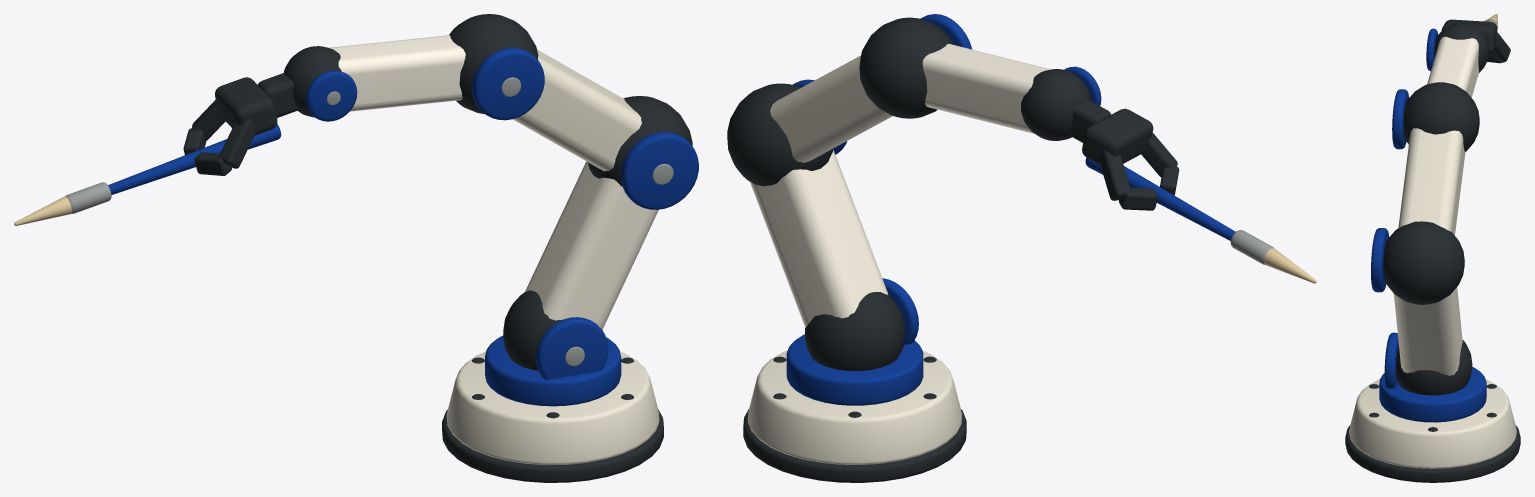
The model's file is workshop-arm.glb.
3 renders of one model, left to right at view 1: azimuth 30°, elevation 25°; view 2: azimuth 150°, elevation 25°; view 3: azimuth 270°, elevation 25°, orthographic. The views are drawn at different scales.
Parts seen in each view (by area): view 1: Porcelain base, Arm lower porcelain, Arm upper porcelain, Arm wrist enamel, Cobalt turntable, Arm elbow blue cap, Rubber base, Arm forearm blue cap, Arm forearm dark joint, Arm shoulder blue cap, Arm shoulder dark joint, Arm elbow dark joint (+8 smaller); view 2: Porcelain base, Arm lower porcelain, Arm wrist enamel, Arm upper porcelain, Arm forearm dark joint, Arm shoulder dark joint, Cobalt turntable, Arm elbow dark joint, Rubber base, Arm wrist dark joint, Gripper palm, Brush handle (+8 smaller); view 3: Porcelain base, Arm elbow dark joint, Arm upper porcelain, Arm lower porcelain, Arm forearm dark joint, Cobalt turntable, Rubber base, Arm wrist enamel, Arm shoulder dark joint, Arm wrist dark joint, Arm elbow blue cap, Arm forearm blue cap (+4 smaller).
Part boxes in pixels (box(x1,y1,x2,y2)): Porcelain base: box(446, 351, 659, 465); Arm lower porcelain: box(524, 161, 658, 329); Arm upper porcelain: box(513, 49, 641, 171); Arm wrist enamel: box(328, 35, 465, 111); Cobalt turntable: box(485, 335, 621, 406); Arm elbow blue cap: box(620, 132, 698, 209); Rubber base: box(442, 409, 663, 482); Arm forearm blue cap: box(472, 47, 544, 120); Arm forearm dark joint: box(449, 14, 538, 113); Arm shoulder blue cap: box(535, 317, 608, 379); Arm shoulder dark joint: box(503, 290, 602, 370); Arm elbow dark joint: box(587, 96, 692, 186); Porcelain base: box(748, 350, 962, 464); Arm lower porcelain: box(750, 150, 888, 327); Arm wrist enamel: box(922, 44, 1051, 133); Arm upper porcelain: box(770, 55, 892, 162); Arm forearm dark joint: box(859, 17, 953, 118); Arm shoulder dark joint: box(804, 292, 905, 370); Cobalt turntable: box(786, 334, 923, 405); Arm elbow dark joint: box(727, 83, 833, 186); Rubber base: box(743, 409, 966, 482); Arm wrist dark joint: box(1021, 69, 1091, 140); Gripper palm: box(1082, 108, 1153, 164); Brush handle: box(1085, 157, 1235, 240); Porcelain base: box(1349, 379, 1516, 468); Arm elbow dark joint: box(1383, 221, 1464, 304); Arm upper porcelain: box(1398, 128, 1465, 235); Arm lower porcelain: box(1393, 287, 1462, 375); Arm forearm dark joint: box(1403, 82, 1479, 151); Cobalt turntable: box(1379, 367, 1486, 422); Rubber base: box(1345, 425, 1520, 482); Arm wrist enamel: box(1427, 36, 1478, 97); Arm shoulder dark joint: box(1396, 340, 1472, 395); Arm wrist dark joint: box(1434, 23, 1488, 72); Arm elbow blue cap: box(1371, 228, 1389, 292); Arm forearm blue cap: box(1392, 89, 1409, 149).
Size of the model in its own units: 2.01 by 1.32 by 0.62.
